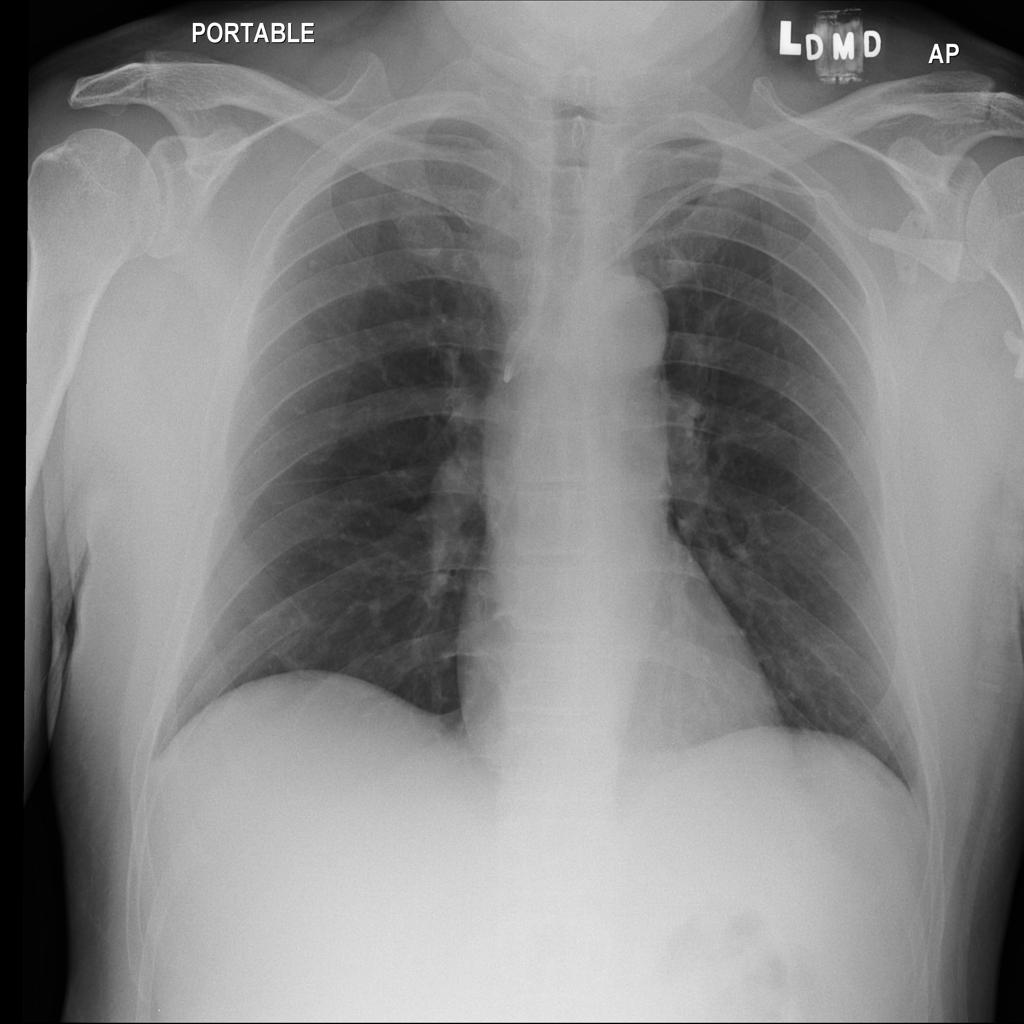nodule: (294, 244, 332, 279)
